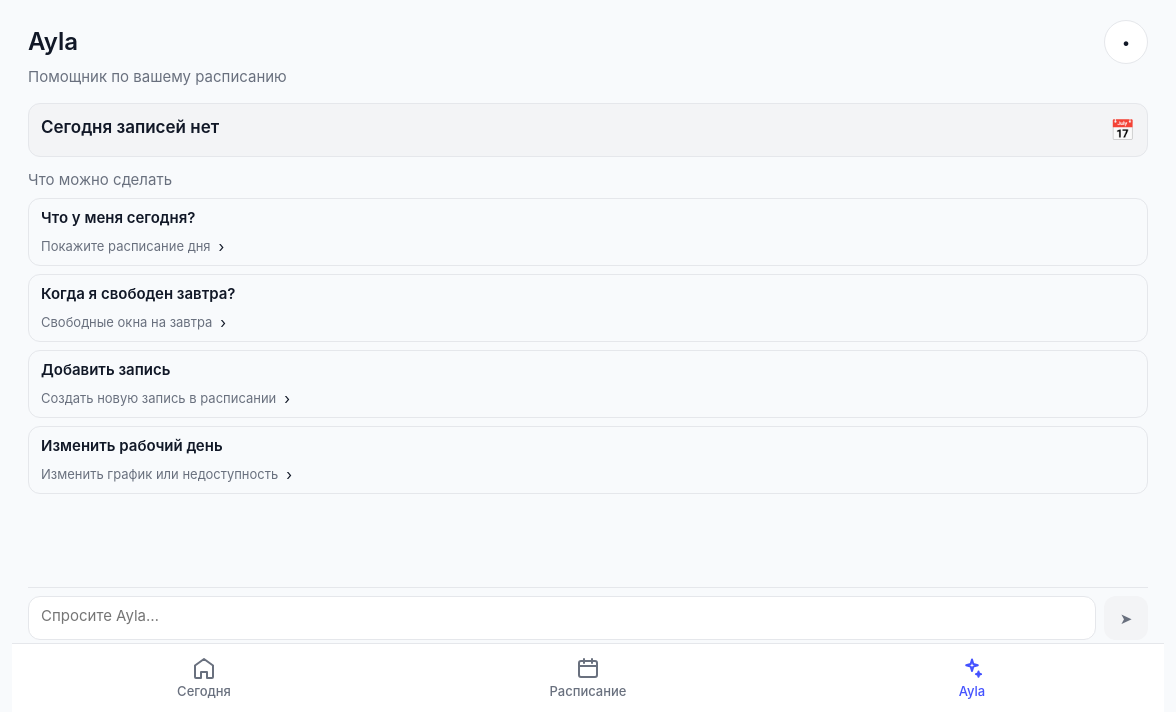
Test: мёртвый талон › оставляет поле ввода — «спросите заново» исполнимо
Type "хочу выходной" into the text box named "Вопрос к Ayla" at (562, 618), box [28,596,1096,640]
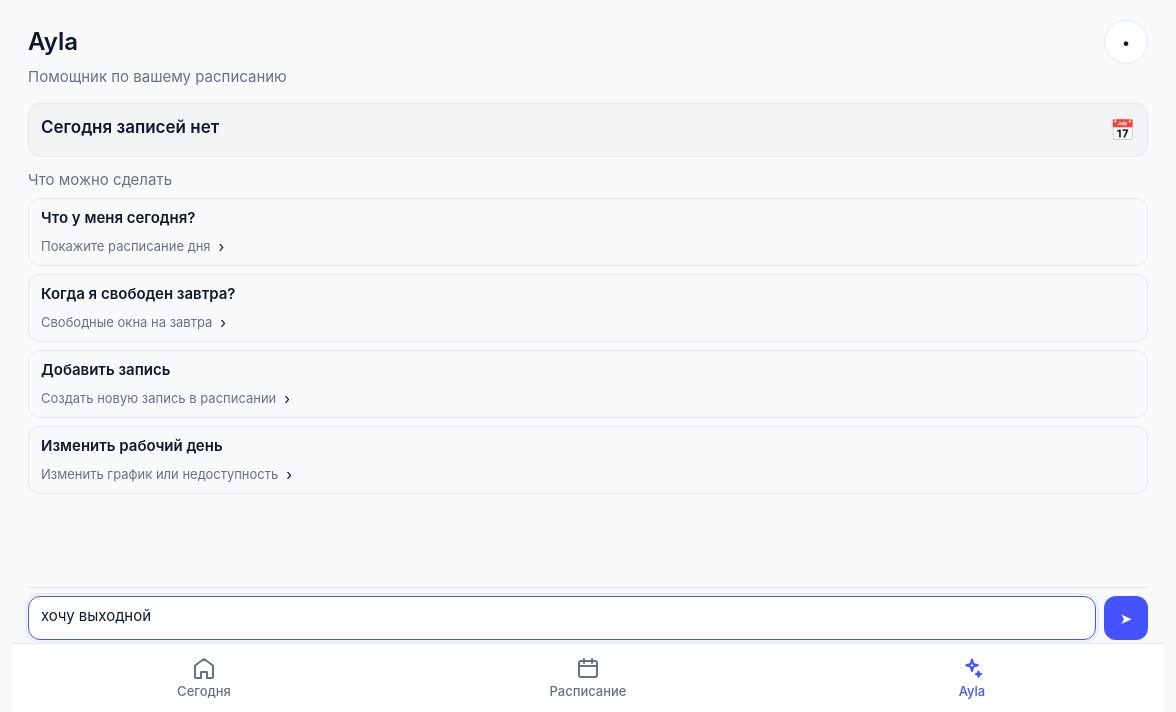
Click the button named "Отправить" at (1126, 618), box [1104,596,1148,640]
(page scrolled)
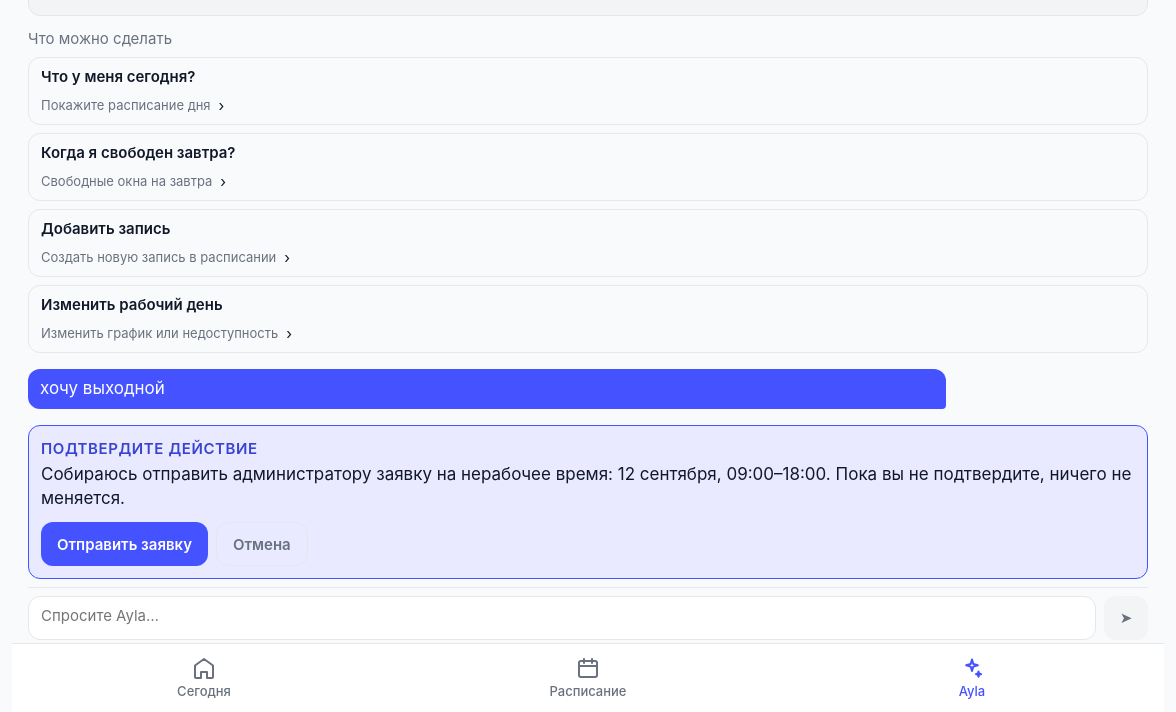
Check: the button "Отправить заявку" is shown
Click the button "Отправить заявку" at (124, 544), box [41,522,208,566]
(page scrolled)
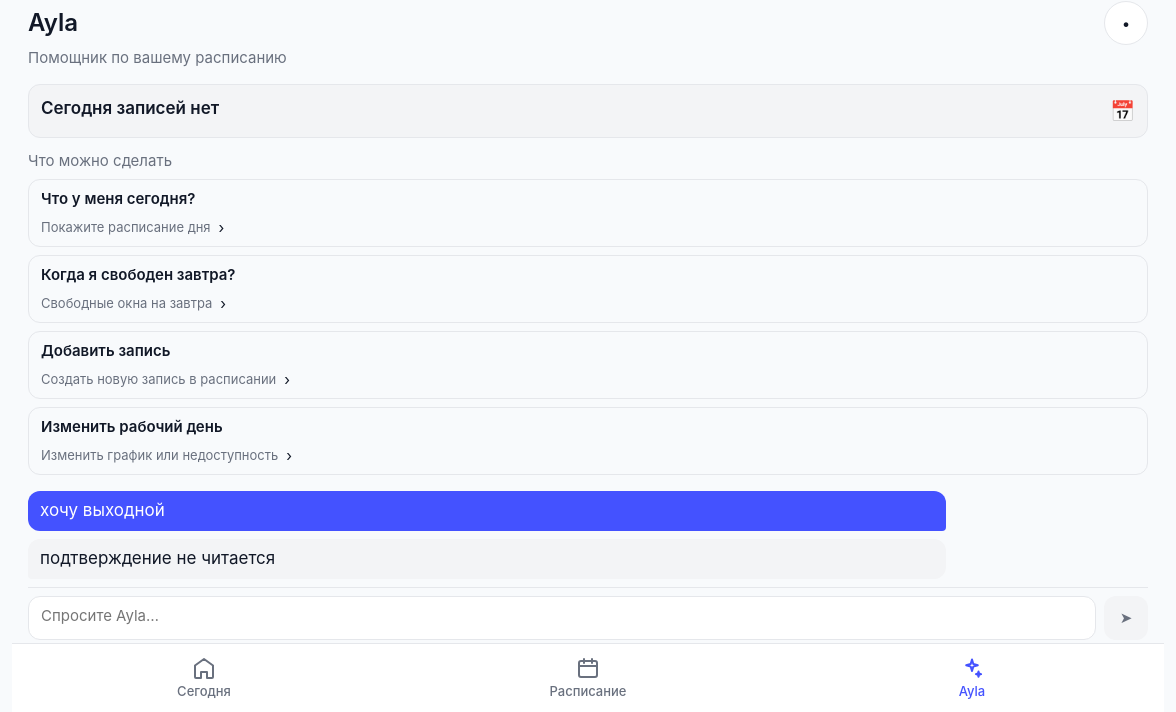
Check: the text box named "Вопрос к Ayla" is enabled, box [28,596,1096,640]
Check: the text "подтверждение не читается" is shown, box [40,548,275,568]
